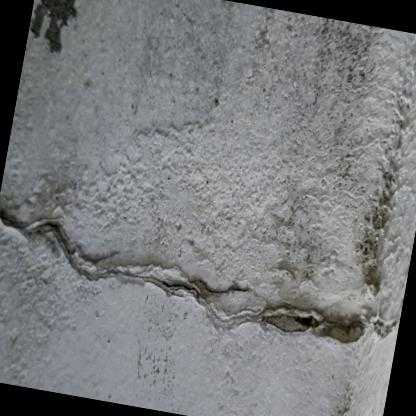crack: (0, 203, 358, 345)
